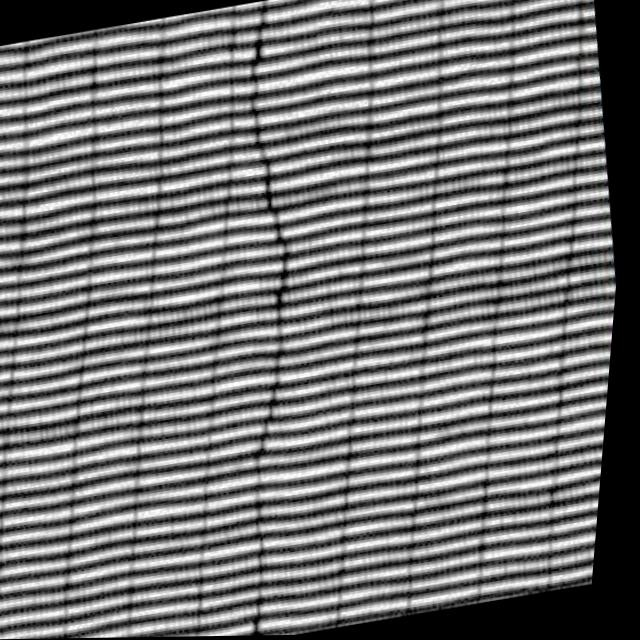Stitch: (155, 0, 385, 395)
